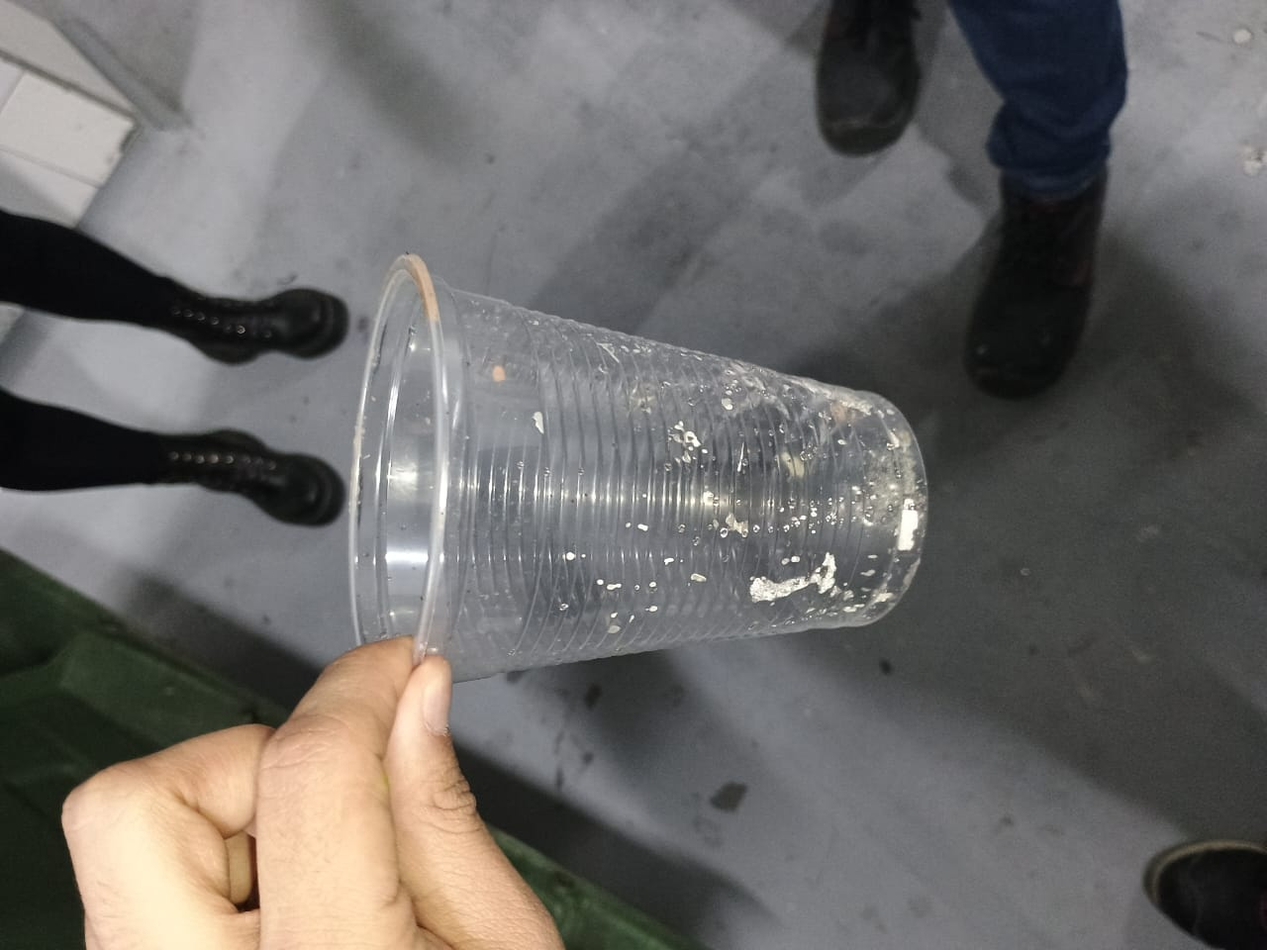Plastico: (345, 254, 926, 680)
